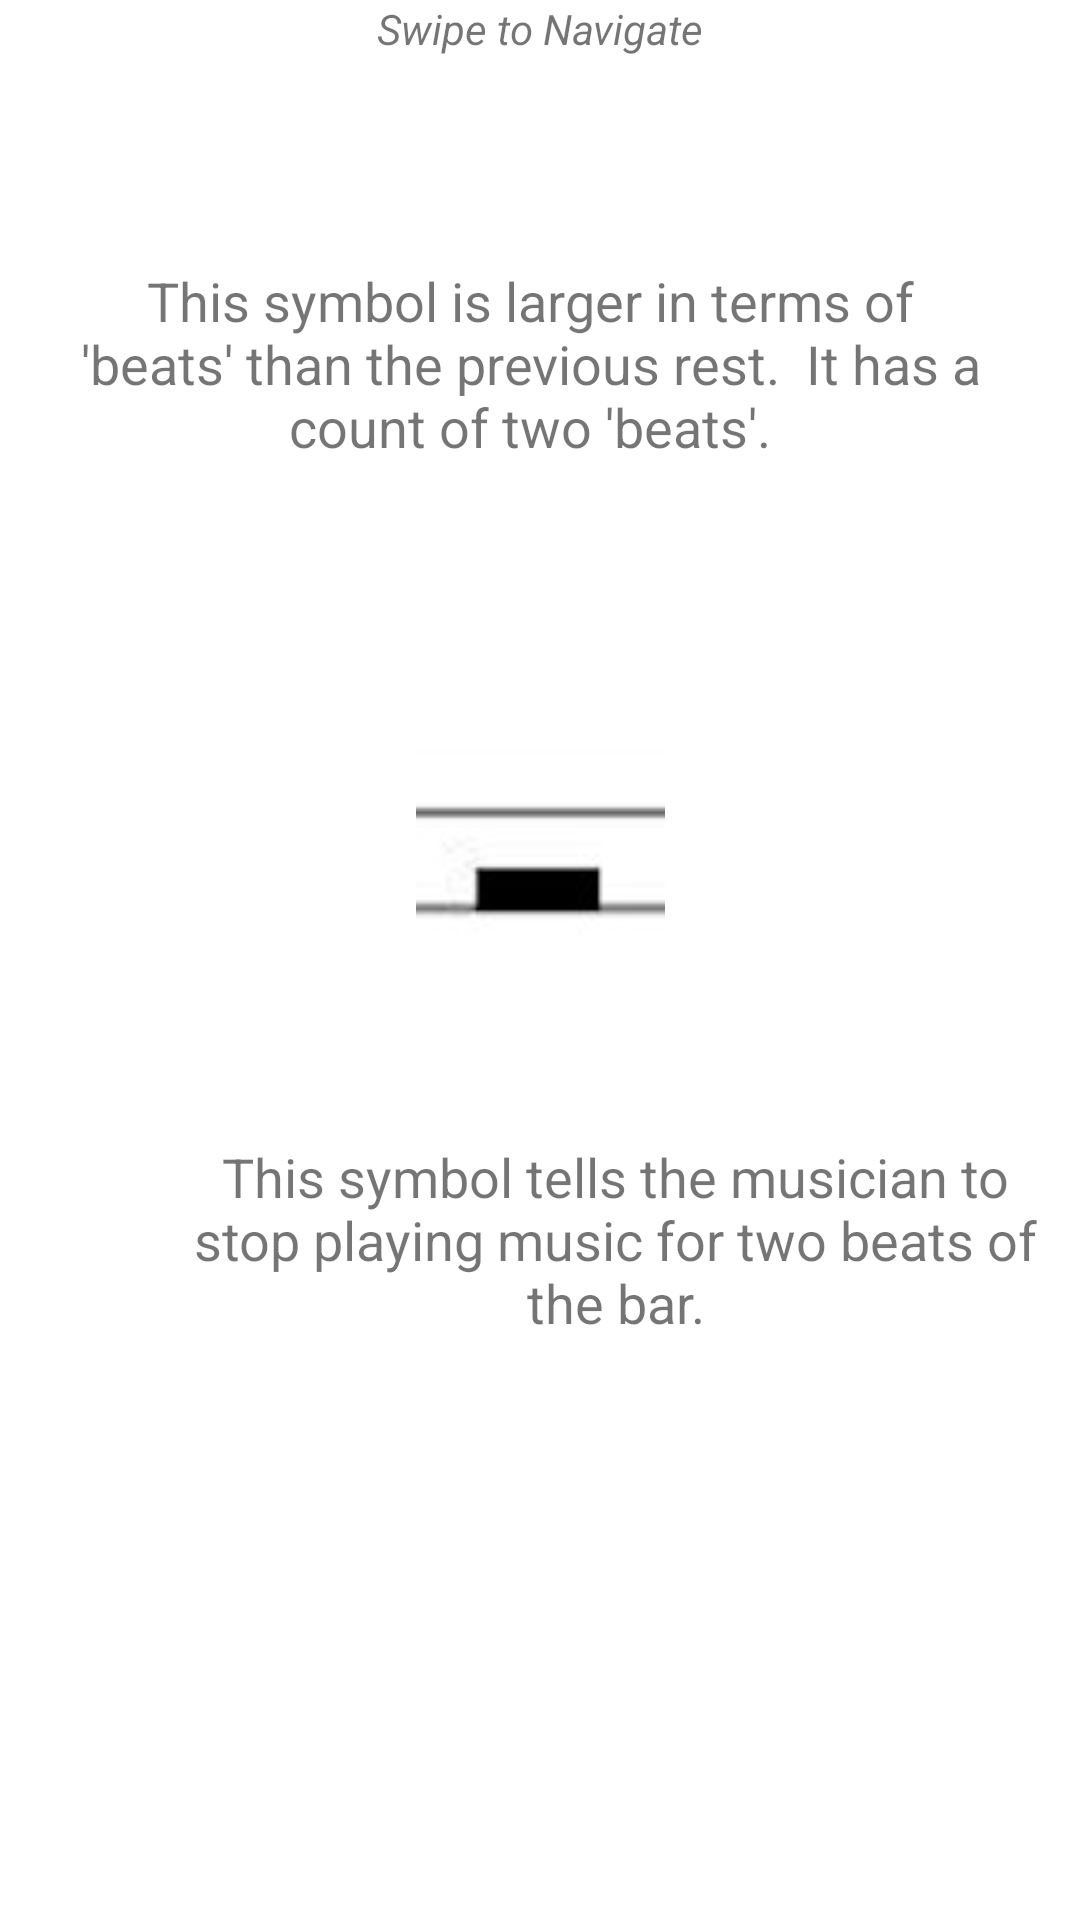

Named icons in this screenshot (1080×1920) and their bounding boxes, (x1, y1, x2, y2):
minim rest rhythm symbol: (416, 807, 665, 916)
